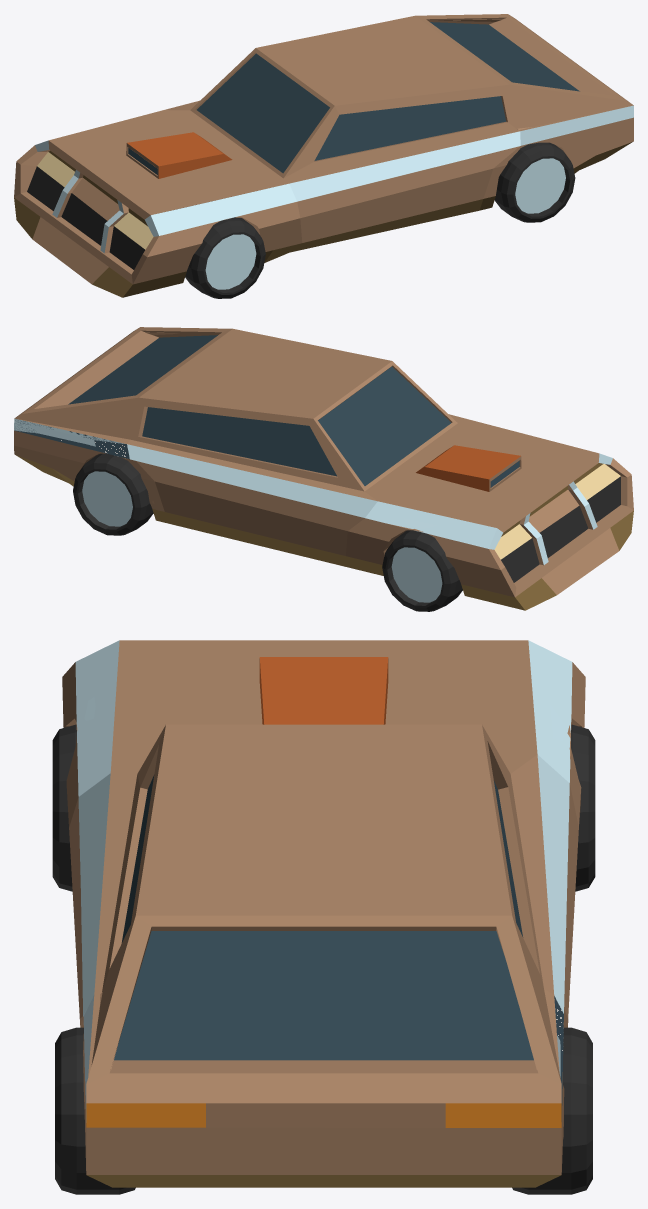
Rendered from car.fbx.
3 renders of one model, top to bottom at view 1: azimuth 30°, elevation 25°; view 2: azimuth 150°, elevation 25°; view 3: azimuth 270°, elevation 25°, orthographic. The views are drawn at different scales.
Parts seen in each view (by area): view 1: Объект_Куб.058, Объект_Куб.064, Объект_Куб.067; view 2: Объект_Куб.058, Объект_Куб.064, Объект_Куб.067; view 3: Объект_Куб.067, Объект_Куб.058, Объект_Куб.064.
Part boxes in pixels (left/top/right/bottom): Объект_Куб.058: left=165, top=16, right=520, bottom=252; Объект_Куб.064: left=14, top=109, right=302, bottom=298; Объект_Куб.067: left=415, top=14, right=633, bottom=222; Объект_Куб.058: left=127, top=329, right=464, bottom=568; Объект_Куб.064: left=346, top=418, right=633, bottom=611; Объект_Куб.067: left=14, top=327, right=232, bottom=535; Объект_Куб.067: left=55, top=915, right=592, bottom=1194; Объект_Куб.058: left=69, top=724, right=578, bottom=1018; Объект_Куб.064: left=52, top=640, right=595, bottom=891.
Size of the model in its own units: 5 by 1.33 by 2.29.
